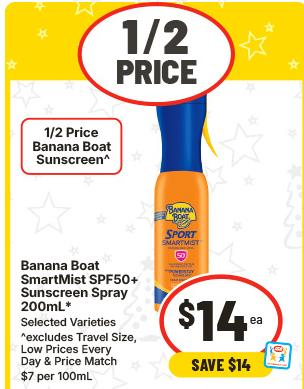description_block: (12, 252, 138, 316)
price_main: (156, 266, 285, 349)
product_image_block: (139, 92, 216, 319)
promo_text_block: (158, 352, 277, 381)
unit_price_block: (7, 368, 109, 385)
